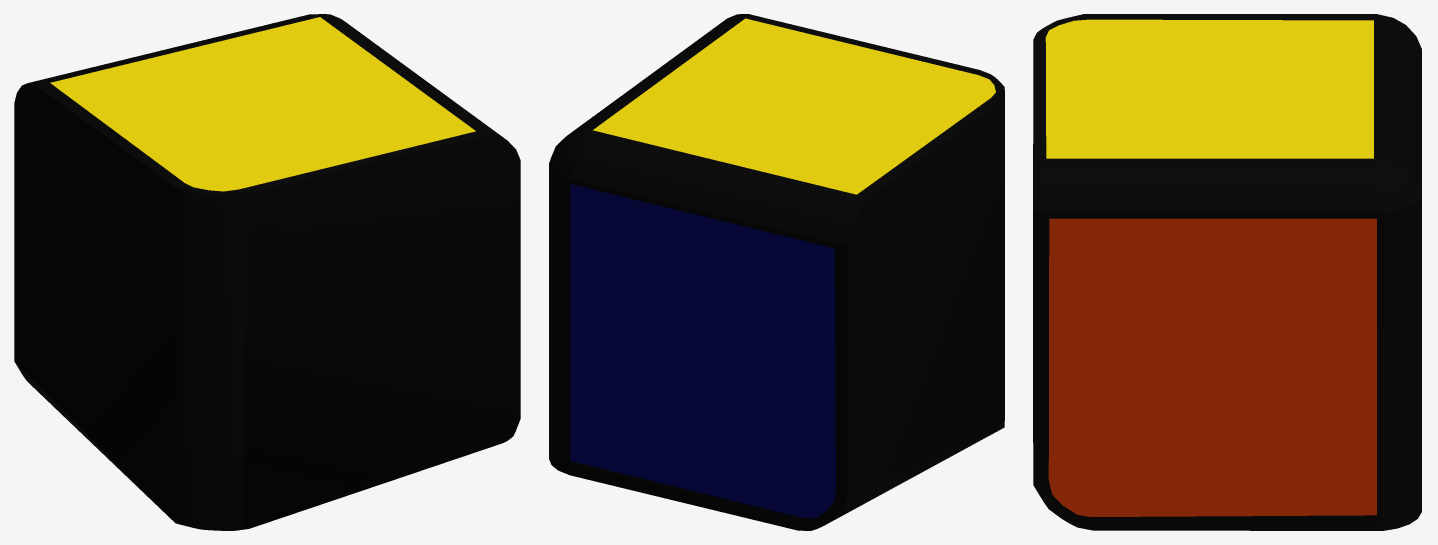
The model's file is cornerYOB.obj.
3 views of the same model, side by side, from view 1: azimuth 30°, elevation 25°; view 2: azimuth 150°, elevation 25°; view 3: azimuth 270°, elevation 25° (orthographic). The views are drawn at different scales.
Visible parts, largest first — view 1: BasicCorner_Plane, ColoredSide1_Plane.001; view 2: BasicCorner_Plane, ColoredSide3_Plane.005, ColoredSide1_Plane.001; view 3: ColoredSide2_Plane.004, BasicCorner_Plane, ColoredSide1_Plane.001.
Boxes of the visible parts, bbox=[...] form: BasicCorner_Plane: bbox=[14, 14, 520, 530]; ColoredSide1_Plane.001: bbox=[50, 17, 475, 191]; BasicCorner_Plane: bbox=[549, 14, 1004, 530]; ColoredSide3_Plane.005: bbox=[570, 184, 835, 518]; ColoredSide1_Plane.001: bbox=[593, 18, 995, 194]; ColoredSide2_Plane.004: bbox=[1048, 218, 1376, 516]; BasicCorner_Plane: bbox=[1033, 14, 1421, 530]; ColoredSide1_Plane.001: bbox=[1045, 19, 1373, 158].
Bounding box in the file's own units: 0.1809 × 0.1801 × 0.1809.
